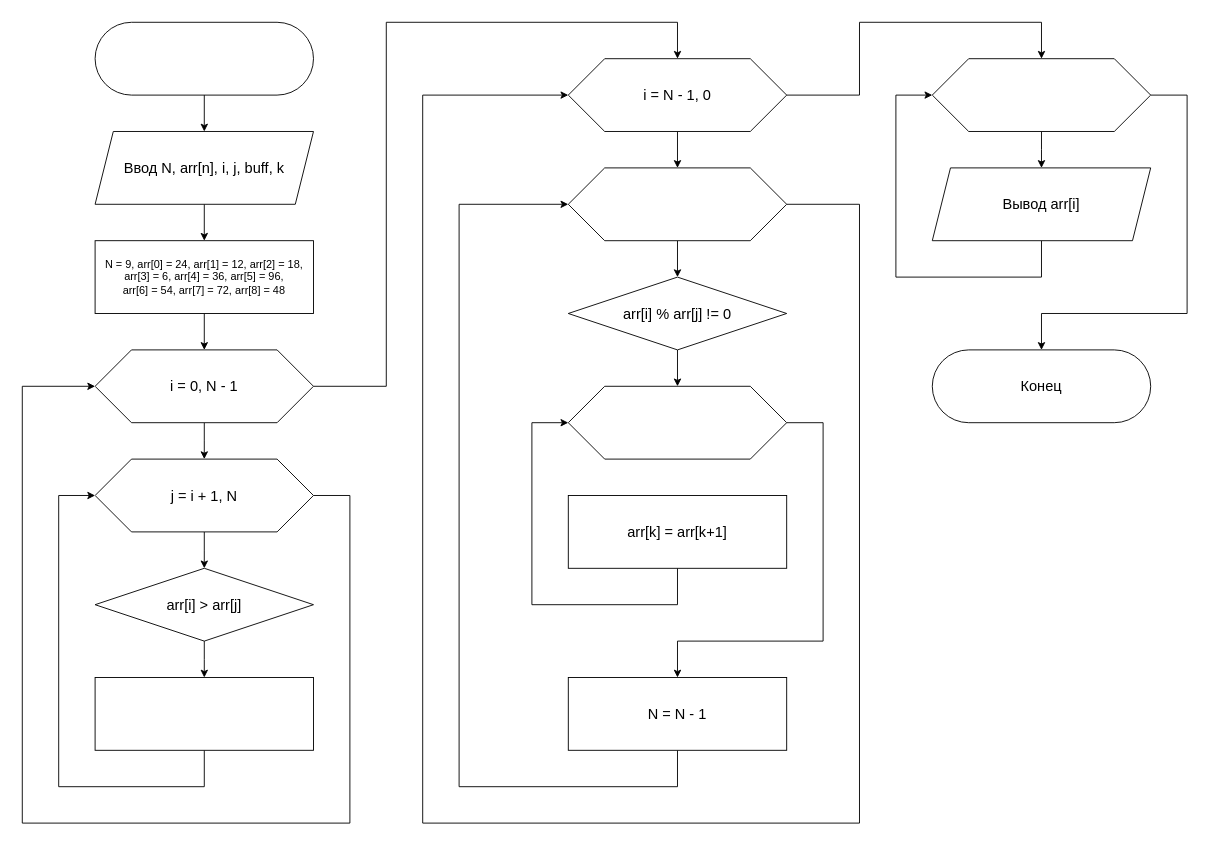
This 1210x846 diagram has some shape labels left out. The shapes that lost their labels are listed below. From the top down, each one's centre as x and y in pixels, then its label:
At point 203,58: "Начало".
At point 1041,94: "i = 0, N".
At point 677,204: "j = 0, i".
At point 677,422: "k = j, N - 1".
At point 203,713: "buff = arr[i] arr[i] = arr[j] arr[j] = buff".
